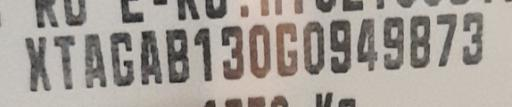letter: (160, 24, 194, 83), (76, 32, 108, 89), (326, 18, 356, 75), (458, 8, 486, 67), (406, 12, 434, 71), (352, 15, 380, 74), (216, 24, 244, 83), (22, 34, 50, 93), (50, 34, 78, 93), (136, 28, 164, 85), (300, 19, 326, 78), (248, 22, 272, 85), (379, 16, 405, 73), (274, 22, 300, 77), (108, 30, 134, 85), (433, 11, 457, 68), (190, 27, 214, 82)
